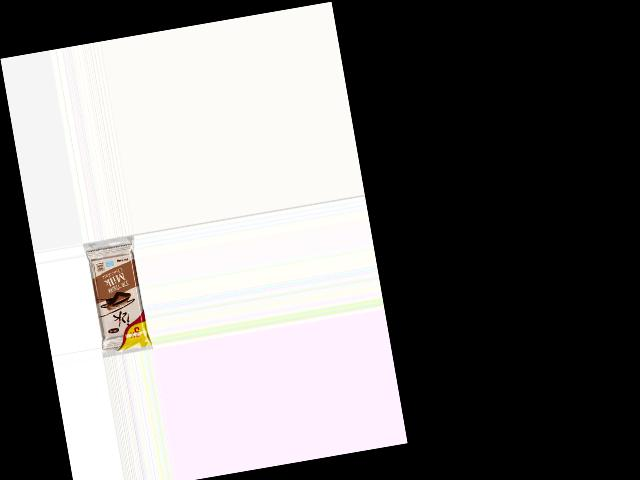chocolate: (83, 245, 152, 358)
